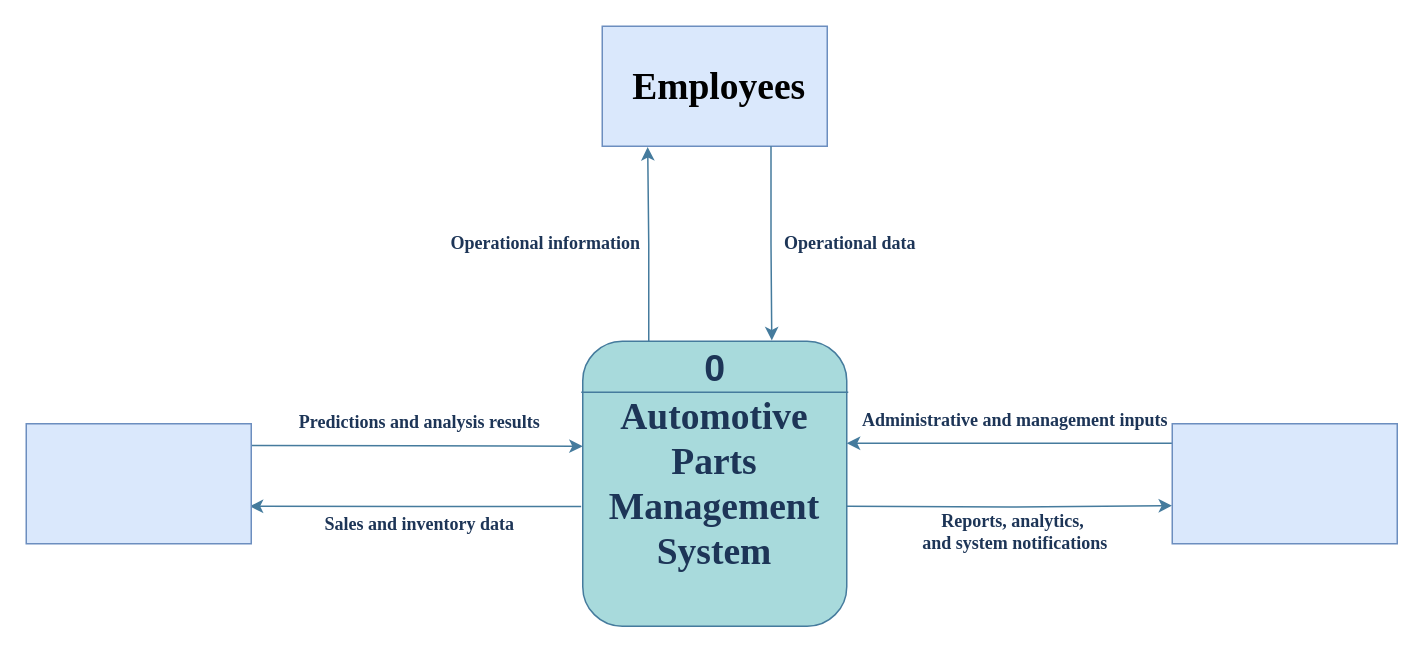
This 1424x653 diagram has some shape labels left out. The centre of each missing label's shape, as x and y in pixels:
Admin: pixel 1284 483
AI Analytics System: pixel 138 483
